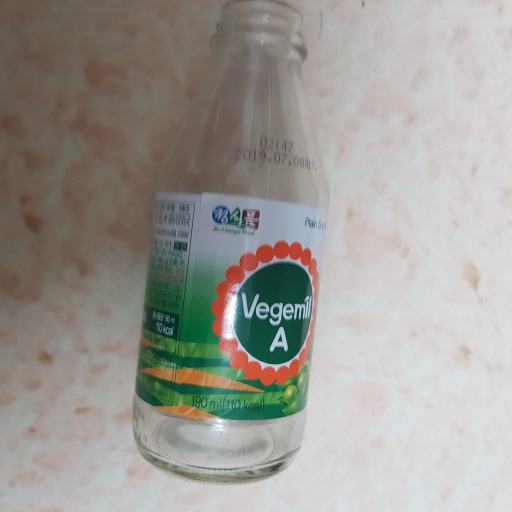Glass_4: (129, 1, 326, 479)
